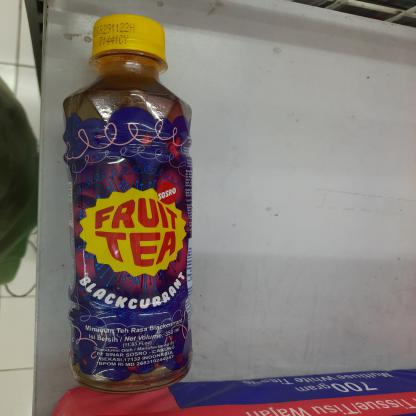bottle: (61, 12, 194, 392)
